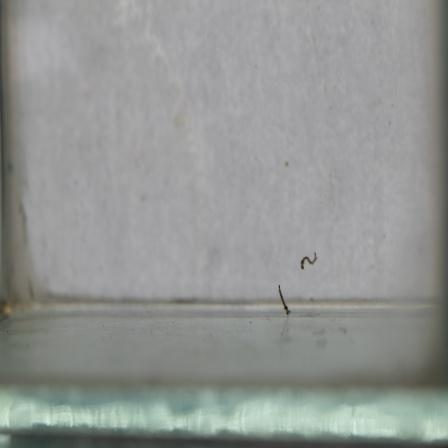Jentik-Nyamuk: (274, 281, 293, 319), (296, 246, 321, 273)
